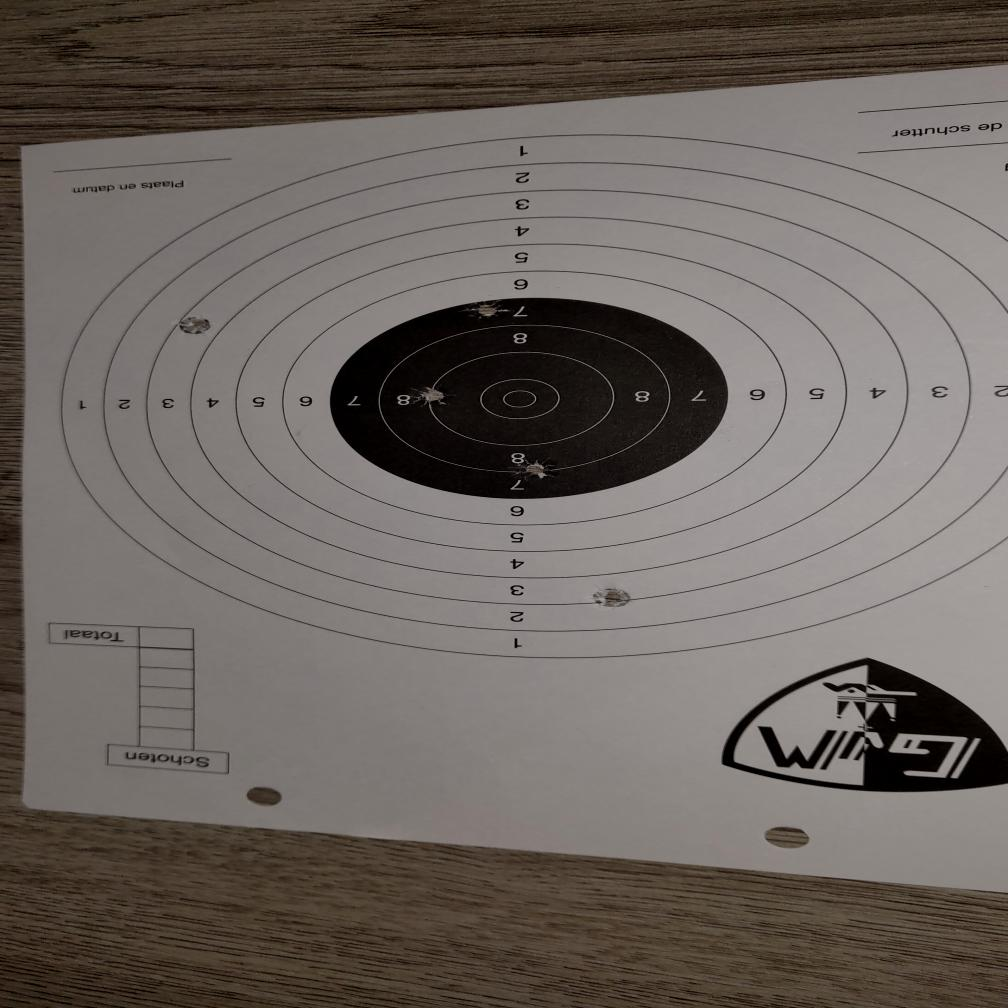3: (587, 587, 634, 609), (176, 317, 214, 335)
7: (458, 300, 512, 320)
8: (505, 458, 560, 483)
9: (410, 385, 455, 407)
Target: (47, 132, 1000, 660)
black_contour: (330, 297, 726, 501)
